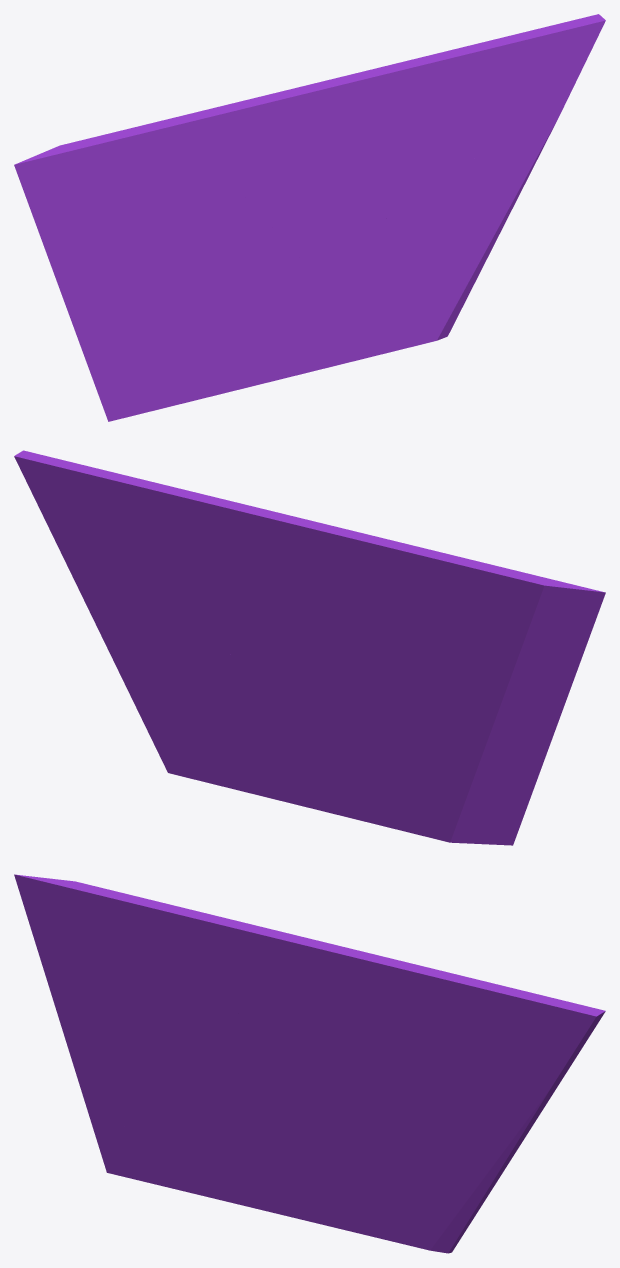
The model's file is Glass_83_2_17_chunks.fbx.
3 renders of one model, top to bottom at view 1: azimuth 30°, elevation 25°; view 2: azimuth 150°, elevation 25°; view 3: azimuth 330°, elevation 25°, orthographic.
Parts seen in each view (by area): view 1: Glass_83_2_17_2, Glass_83_2_17_0, Glass_83_2_17_6, Glass_83_2_17_3, Glass_83_2_17_9, Glass_83_2_17_5, Glass_83_2_17_8, Glass_83_2_17_4, Glass_83_2_17_1; view 2: Glass_83_2_17_2, Glass_83_2_17_0, Glass_83_2_17_3, Glass_83_2_17_9, Glass_83_2_17_5, Glass_83_2_17_7, Glass_83_2_17_6, Glass_83_2_17_8; view 3: Glass_83_2_17_2, Glass_83_2_17_0, Glass_83_2_17_6, Glass_83_2_17_3, Glass_83_2_17_9, Glass_83_2_17_5, Glass_83_2_17_8, Glass_83_2_17_4, Glass_83_2_17_1.
Boxes of the visible parts, x1=… form: Glass_83_2_17_2: x1=14, y1=109, x2=229, y2=394; Glass_83_2_17_0: x1=279, y1=182, x2=525, y2=379; Glass_83_2_17_6: x1=246, y1=59, x2=450, y2=221; Glass_83_2_17_3: x1=98, y1=260, x2=332, y2=421; Glass_83_2_17_9: x1=420, y1=14, x2=605, y2=168; Glass_83_2_17_5: x1=210, y1=100, x2=341, y2=265; Glass_83_2_17_8: x1=384, y1=154, x2=532, y2=218; Glass_83_2_17_4: x1=227, y1=181, x2=302, y2=261; Glass_83_2_17_1: x1=340, y1=216, x2=404, y2=246; Glass_83_2_17_2: x1=385, y1=542, x2=605, y2=818; Glass_83_2_17_0: x1=92, y1=616, x2=341, y2=815; Glass_83_2_17_3: x1=290, y1=691, x2=522, y2=845; Glass_83_2_17_9: x1=14, y1=450, x2=193, y2=603; Glass_83_2_17_5: x1=272, y1=534, x2=398, y2=703; Glass_83_2_17_7: x1=163, y1=498, x2=294, y2=665; Glass_83_2_17_6: x1=193, y1=492, x2=366, y2=634; Glass_83_2_17_8: x1=85, y1=589, x2=239, y2=656; Glass_83_2_17_2: x1=14, y1=874, x2=226, y2=1140; Glass_83_2_17_0: x1=275, y1=1112, x2=527, y2=1253; Glass_83_2_17_6: x1=254, y1=926, x2=443, y2=1104; Glass_83_2_17_3: x1=97, y1=1071, x2=326, y2=1213; Glass_83_2_17_9: x1=426, y1=968, x2=605, y2=1127; Glass_83_2_17_5: x1=221, y1=917, x2=336, y2=1126; Glass_83_2_17_8: x1=378, y1=1074, x2=533, y2=1137; Glass_83_2_17_4: x1=224, y1=994, x2=298, y2=1108; Glass_83_2_17_1: x1=335, y1=1087, x2=398, y2=1113.
Bounding box in the file's own units: 1115 × 512 × 27.2.
